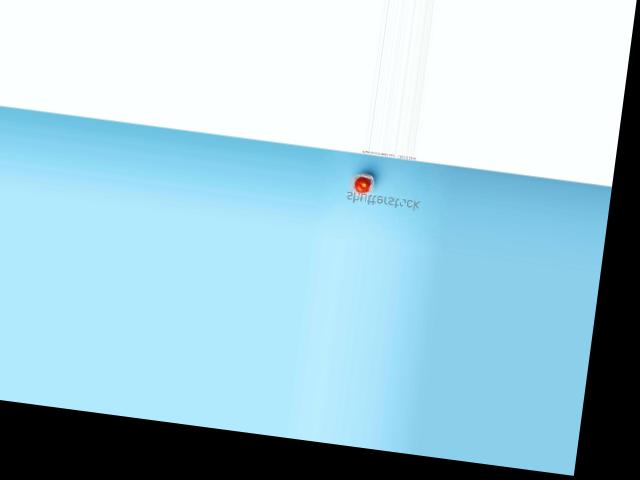tomato: (354, 176, 372, 193)
